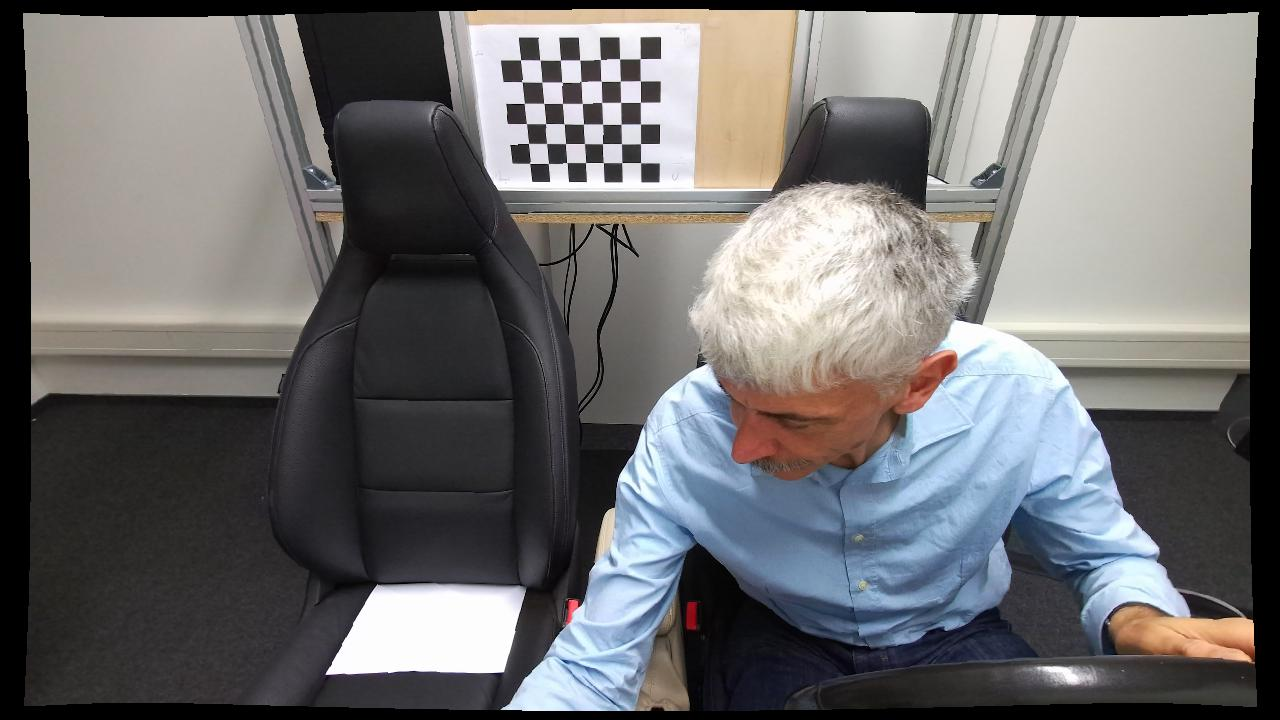Distracted: (499, 172, 1184, 713)
